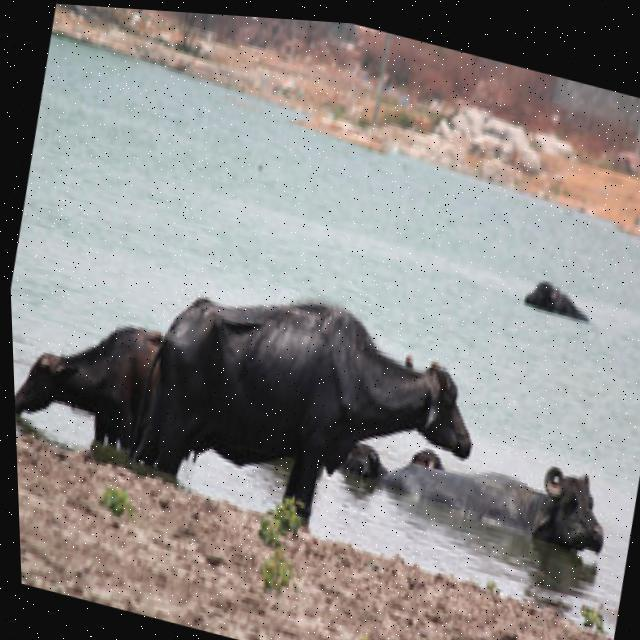Buffalo: (126, 261, 500, 570), (458, 443, 619, 582)
